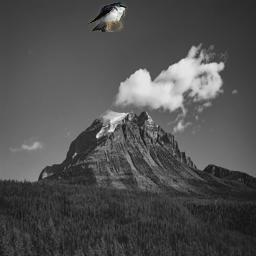Swallow: (88, 2, 128, 32)
